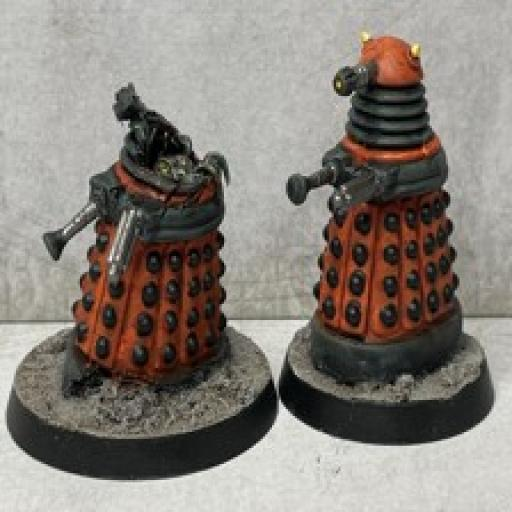dalek: (28, 82, 242, 398), (289, 15, 461, 379)
